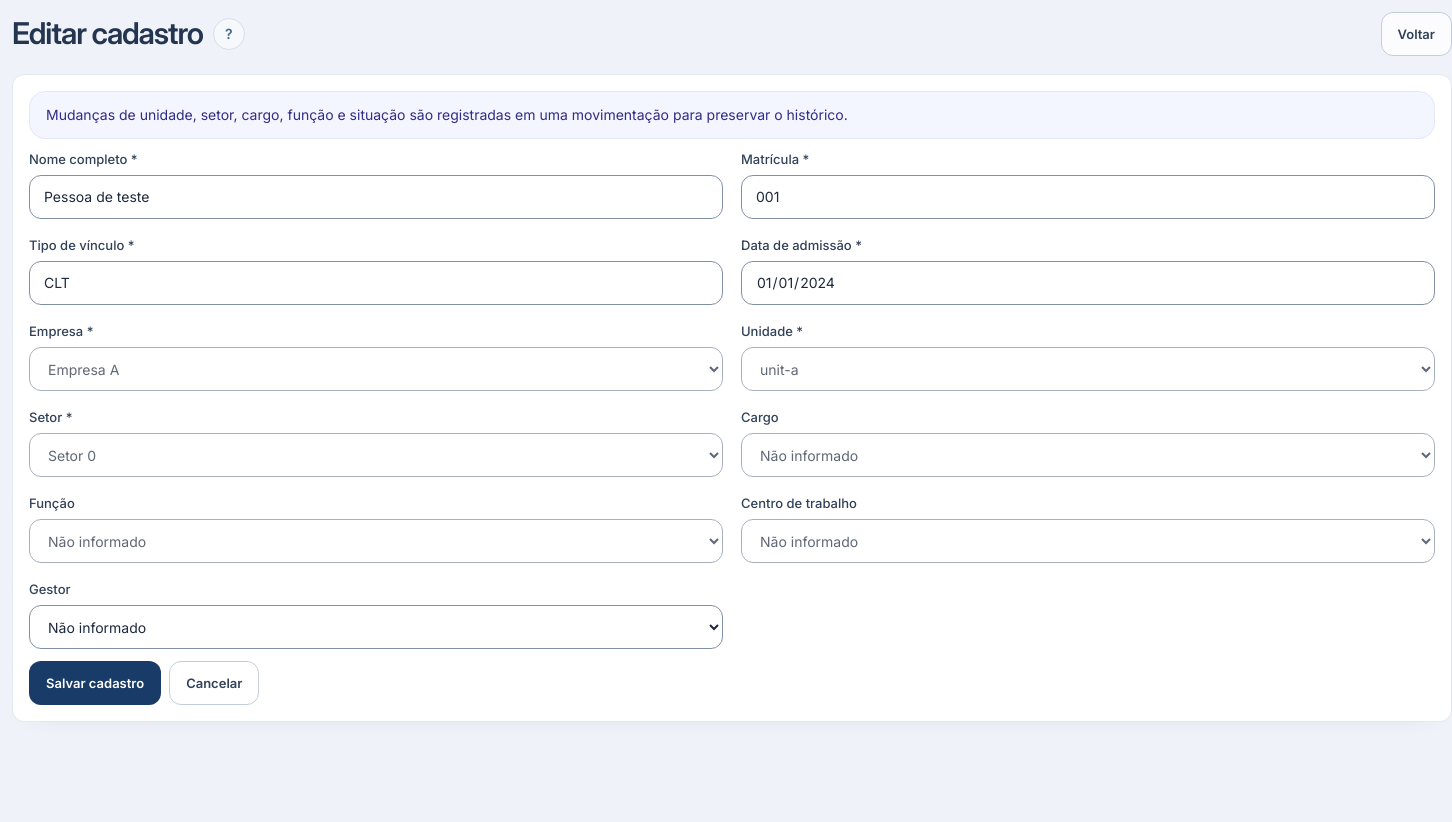
Test case: cadastro protegido de trabalhadores › mantém alterações após conflito e só recarrega o cadastro quando o descarte é confirmado
This screenshot has width=1452, height=822.
Clear the field labelled "Nome completo *": (376, 197) [29, 175, 723, 219]
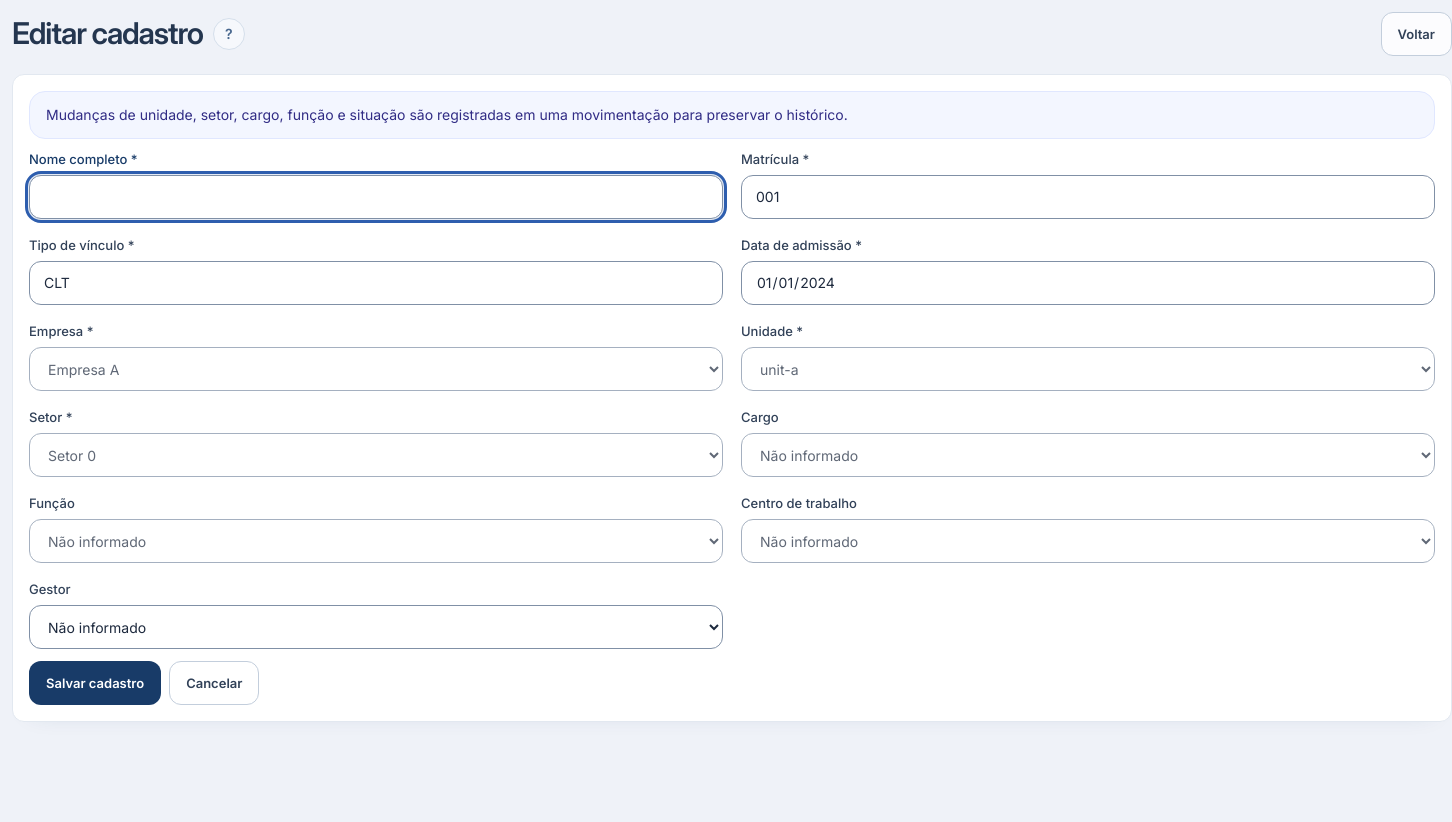
Type keys "Nome corrigido"
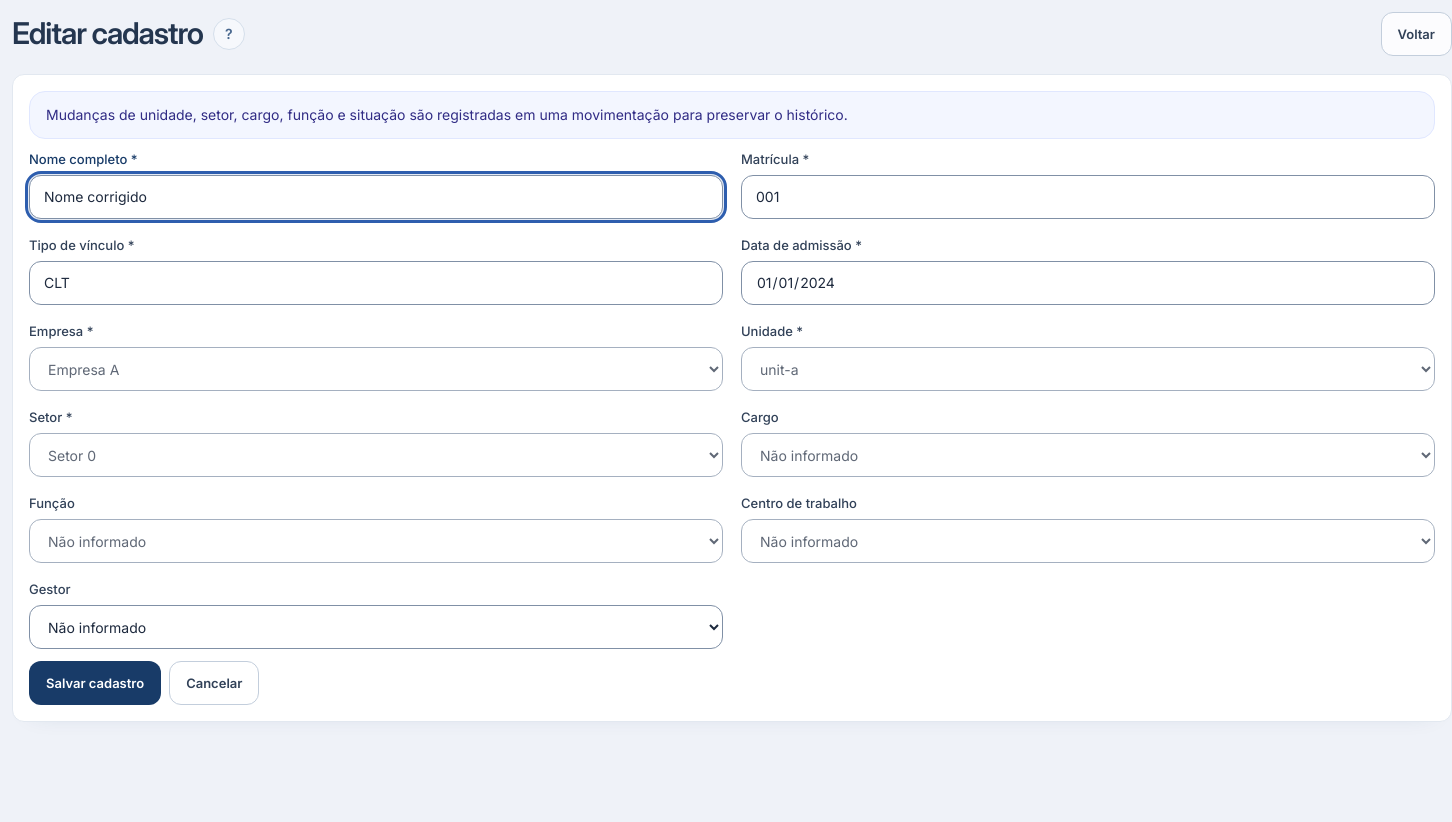
Click the button "Salvar cadastro": (95, 683) [29, 661, 161, 705]
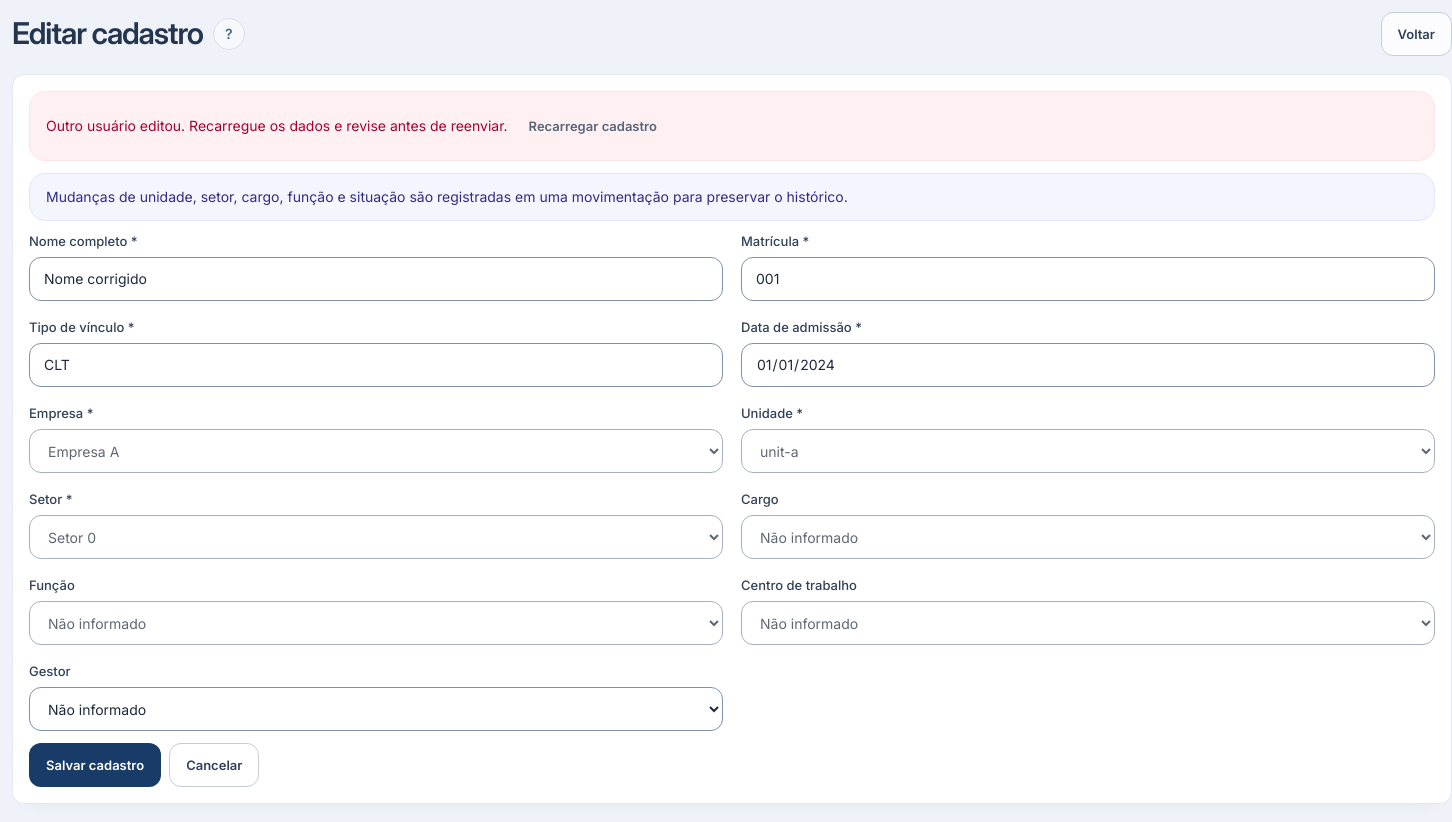
expect the 1st message is shown: met, box [29, 91, 1435, 161]
Click the button "Recarregar cadastro": (593, 126) [512, 104, 674, 148]
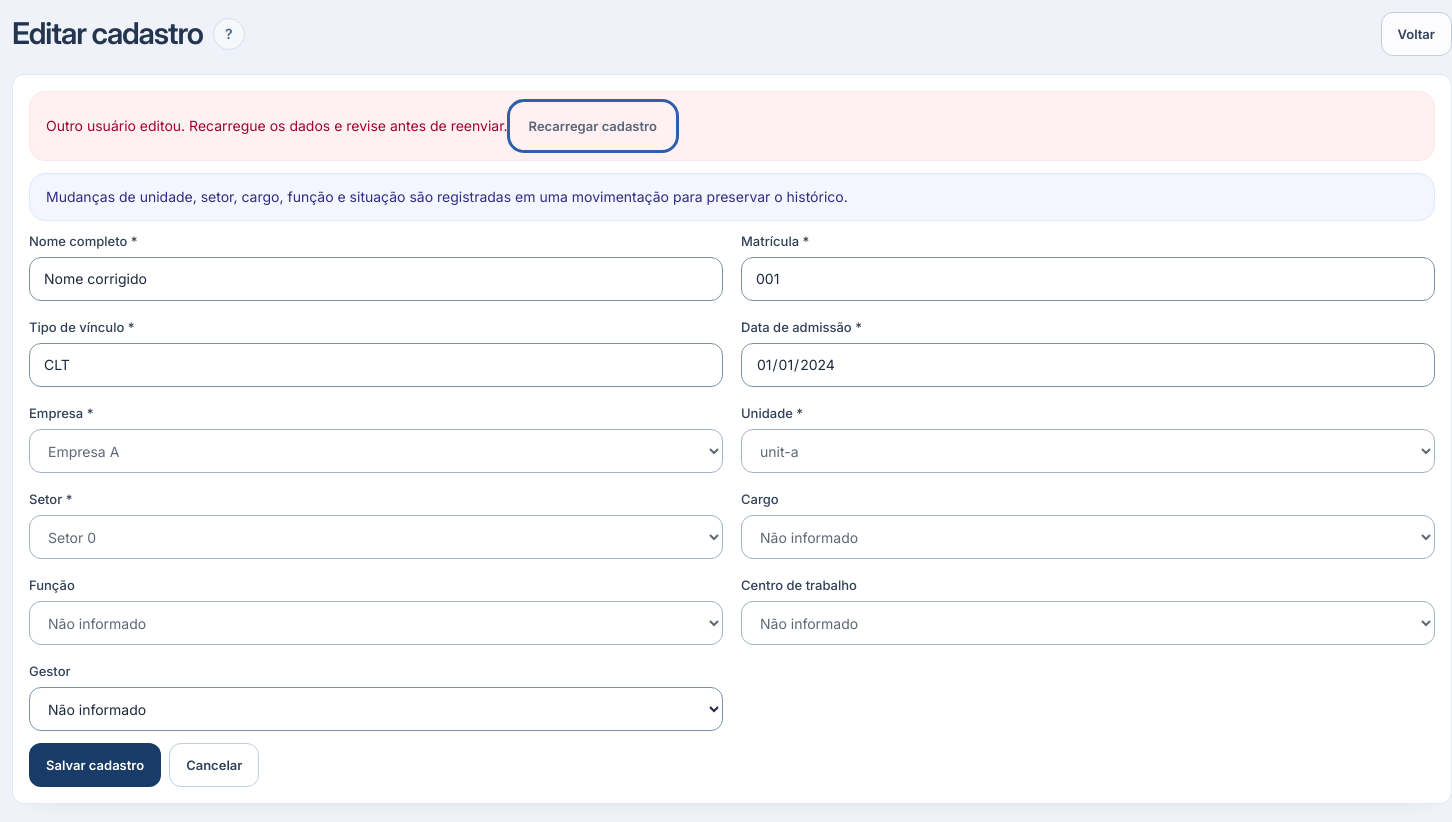
expect the field labelled "Nome completo *" holds "Nome corrigido": met, box [29, 257, 723, 301]
Click the button "Recarregar cadastro": (593, 126) [512, 104, 674, 148]
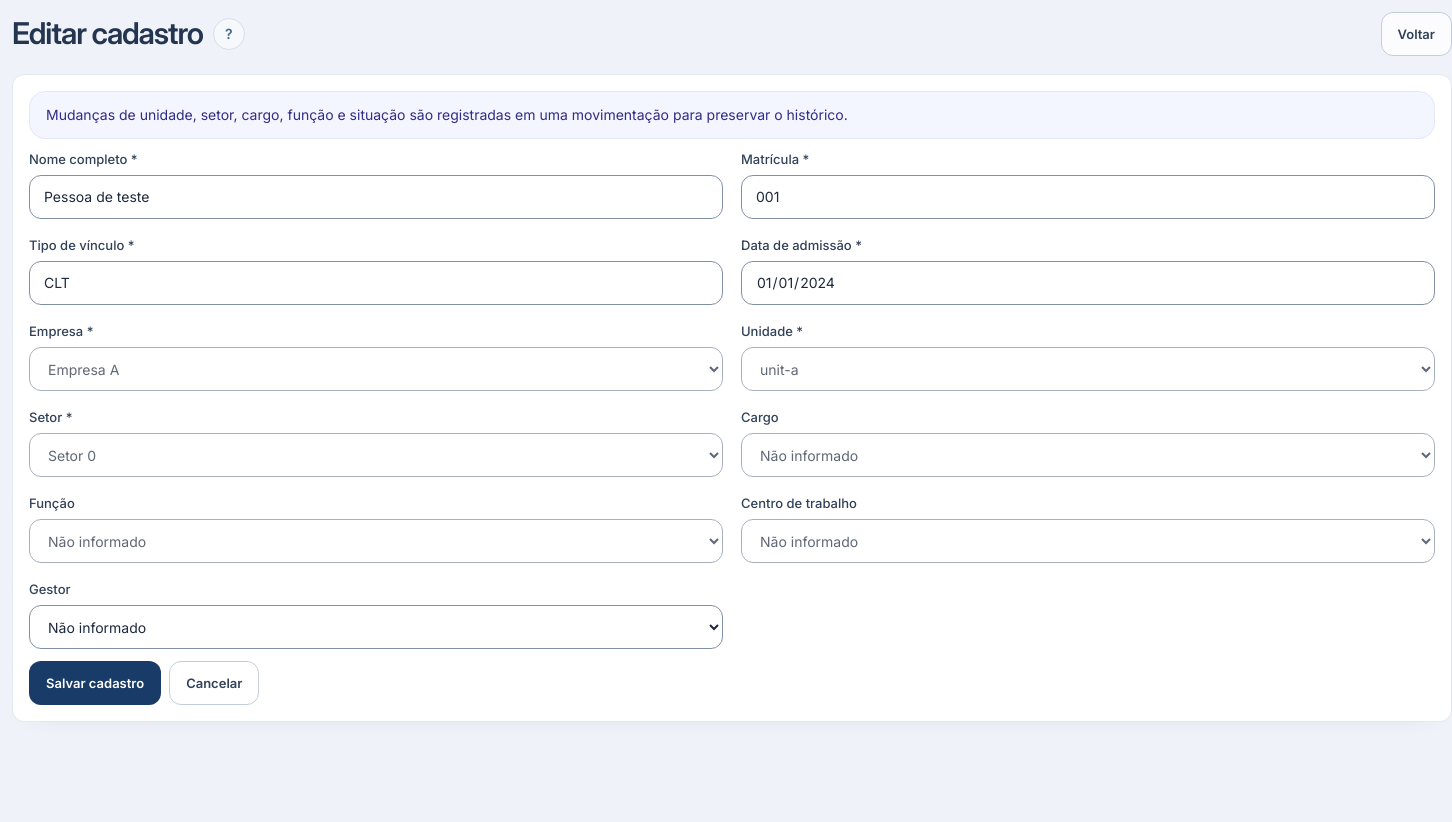
expect the field labelled "Nome completo *" holds "Pessoa de teste": met, box [29, 175, 723, 219]
